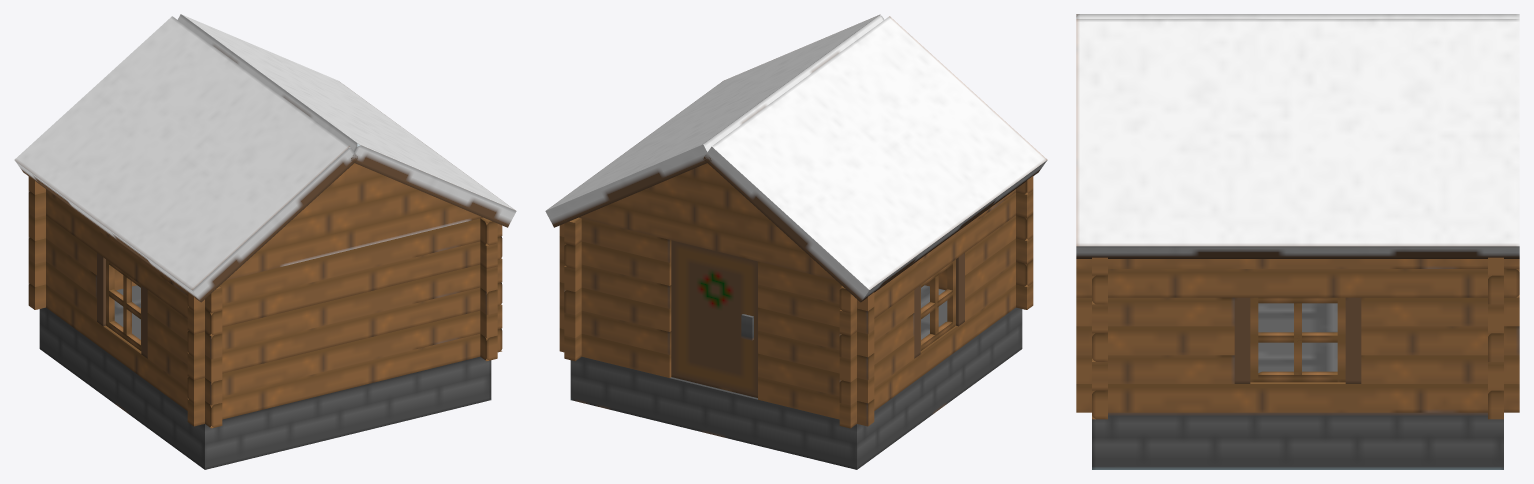
Rendered from House.fbx.
3 renders of one model, left to right at view 1: azimuth 30°, elevation 25°; view 2: azimuth 150°, elevation 25°; view 3: azimuth 270°, elevation 25°, orthographic. The views are drawn at different scales.
Visible parts, largest first — view 1: Roofing, Floor, Roofing_1, Ceiling, Wall, Wall_11, Wall_14, Wall_5, Wall_8, Wall_19, Wall_2, Wall_16 (+9 smaller); view 2: Roofing, Floor, Roofing_1, Door, Ceiling, Wall_2, Wall_16, Wall_4, Wall_18, Wall_13, Wall_7, Wall_10 (+16 smaller); view 3: Roofing_1, Floor, Wall_1, Wall_15, Wall_28, Wall_29, Wall_33, Wall_32, Wall_24, Wall_25, Wall_20, Roofing (+18 smaller).
Boxes of the visible parts, x1,y1,x2,y2 form: Roofing: (14,16,357,302); Floor: (39,285,491,469); Roofing_1: (177,14,516,227); Ceiling: (226,143,482,280); Wall: (187,328,502,426); Wall_11: (187,258,502,357); Wall_14: (187,236,502,334); Wall_5: (187,304,502,403); Wall_8: (187,282,502,380); Wall_19: (187,218,502,311); Wall_2: (46,284,222,428); Wall_16: (46,192,222,335); Roofing: (703,16,1047,302); Floor: (570,285,1022,469); Roofing_1: (545,14,884,227); Door: (671,240,757,397); Ceiling: (579,163,835,280); Wall_2: (839,284,1015,428); Wall_16: (839,192,1015,336); Wall_4: (758,376,874,426); Wall_18: (758,284,874,334); Wall_13: (758,307,874,357); Wall_7: (758,353,874,403); Wall_10: (758,330,874,380); Roofing_1: (1076,19,1519,258); Floor: (1092,303,1503,469); Wall_1: (1076,382,1519,412); Wall_15: (1076,269,1519,297); Wall_28: (1361,326,1519,355); Wall_29: (1076,326,1234,355); Wall_33: (1361,295,1519,326); Wall_32: (1076,297,1234,326); Wall_24: (1076,355,1234,383); Wall_25: (1361,355,1519,383); Wall_20: (1076,259,1519,268); Roofing: (1076,14,1519,18).
Bounding box in the file's own units: 368 × 319 × 350.
1 material, 1 textured.
